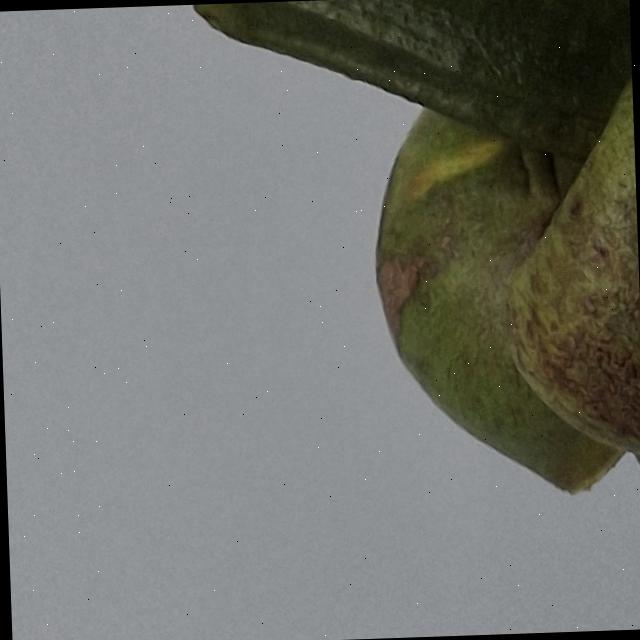mangosteen: (144, 0, 640, 640)
